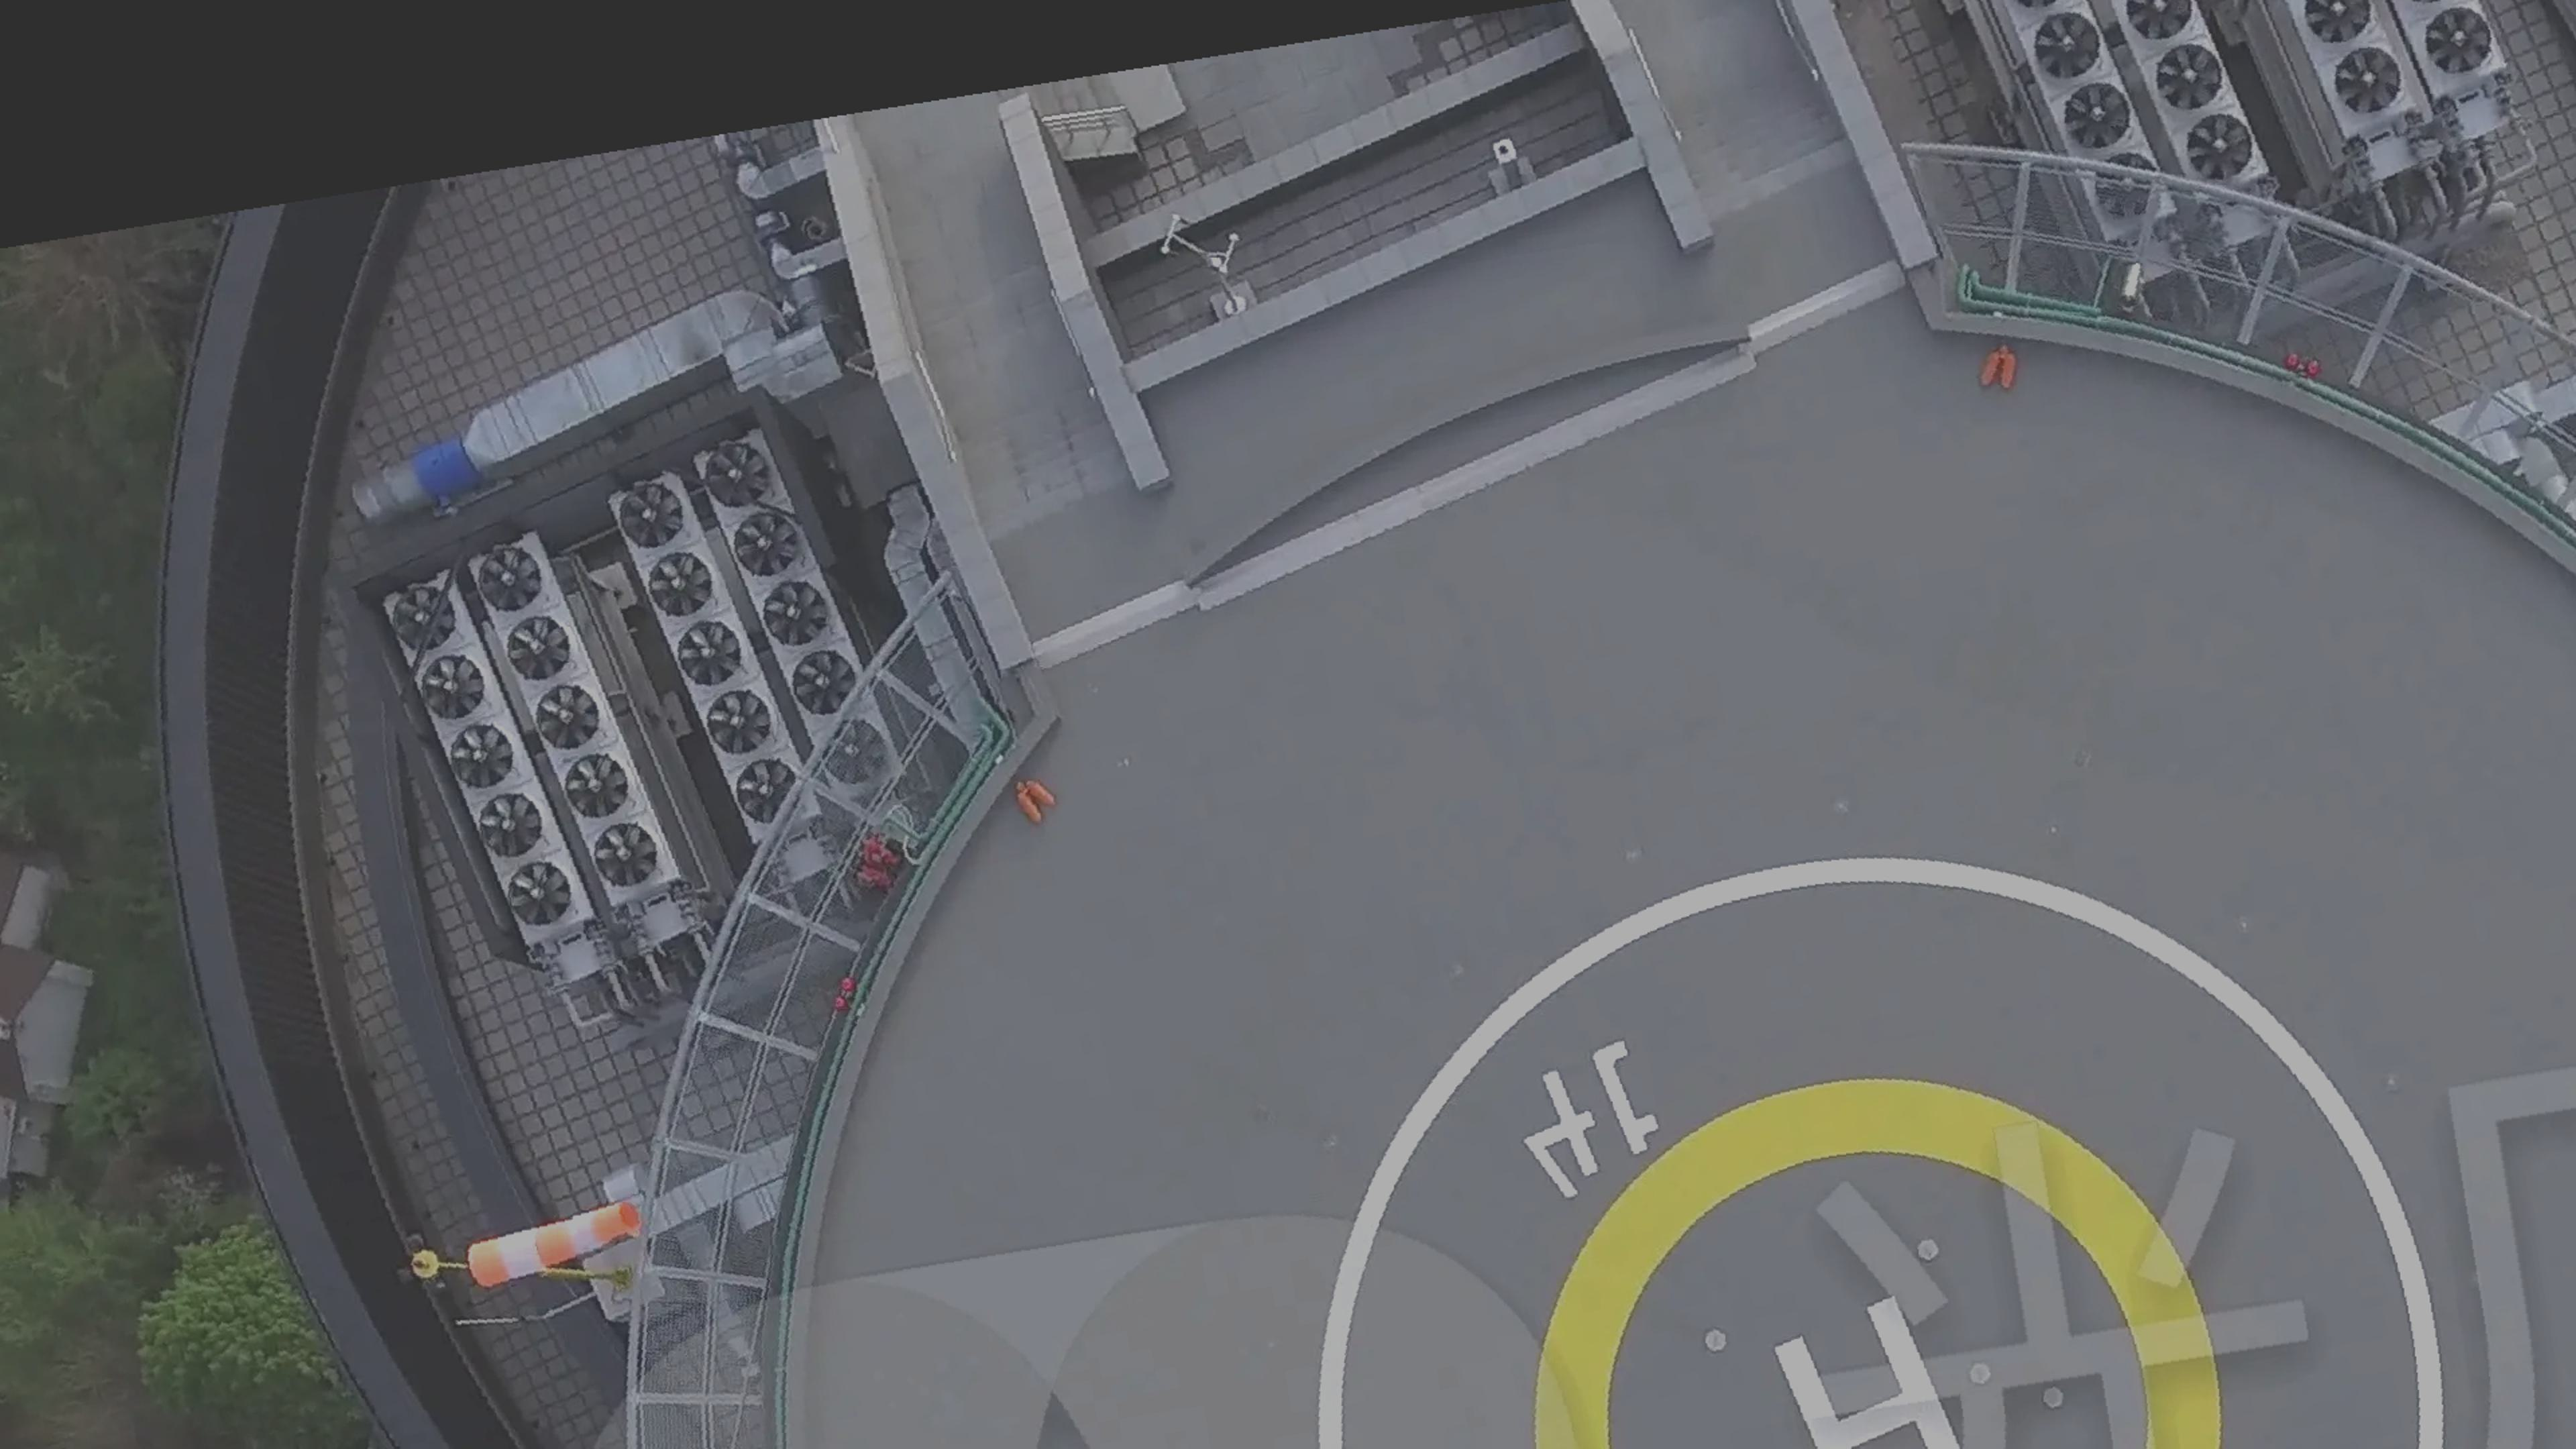Apron: (1525, 1054, 2233, 1449)
